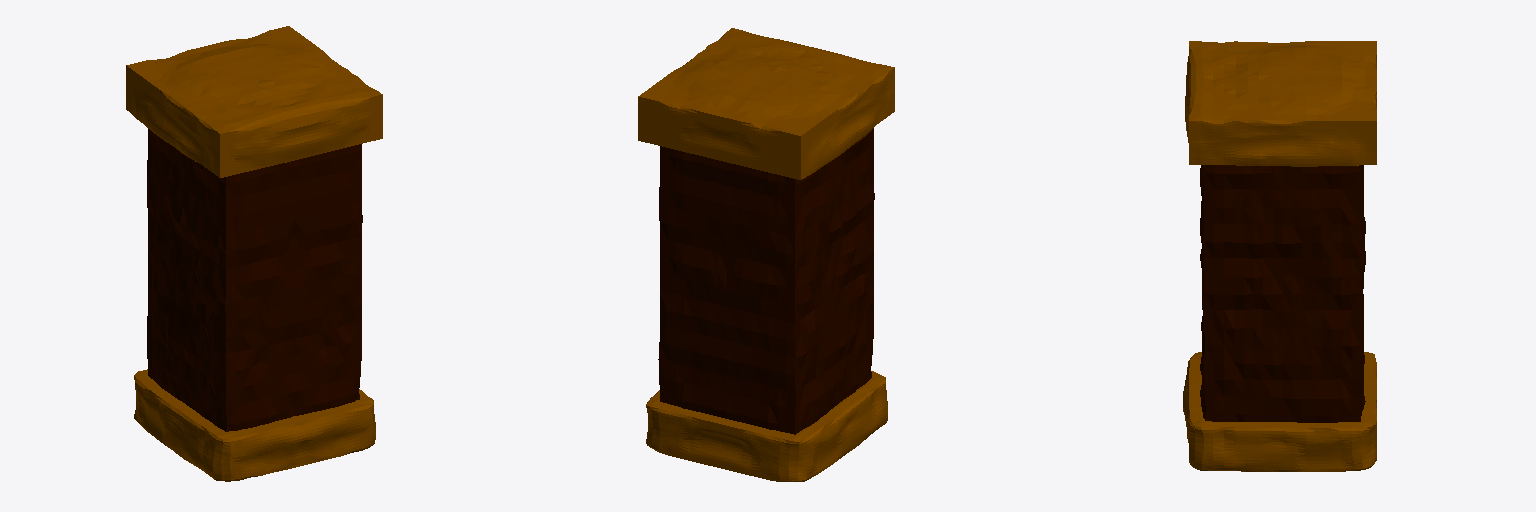
Rendered from Pillar.obj.
The picture shows the model from 3 angles: view 1: azimuth 30°, elevation 25°; view 2: azimuth 150°, elevation 25°; view 3: azimuth 270°, elevation 25°; orthographic projection.
Parts seen in each view (by area): view 1: Pillar_Cube_Material, Pillar_Top_Cube.001_Pillar_Top_Pillar_Top_Texture.png, Pillar_Bottom_Cube.002_Pillar_Top; view 2: Pillar_Cube_Material, Pillar_Top_Cube.001_Pillar_Top_Pillar_Top_Texture.png, Pillar_Bottom_Cube.002_Pillar_Top; view 3: Pillar_Cube_Material, Pillar_Top_Cube.001_Pillar_Top_Pillar_Top_Texture.png, Pillar_Bottom_Cube.002_Pillar_Top.
Boxes of the visible parts, <box> form: Pillar_Cube_Material: <box>147,129,362,431</box>; Pillar_Top_Cube.001_Pillar_Top_Pillar_Top_Texture.png: <box>126,26,382,177</box>; Pillar_Bottom_Cube.002_Pillar_Top: <box>134,369,375,481</box>; Pillar_Cube_Material: <box>658,128,874,434</box>; Pillar_Top_Cube.001_Pillar_Top_Pillar_Top_Texture.png: <box>638,28,894,179</box>; Pillar_Bottom_Cube.002_Pillar_Top: <box>646,371,887,481</box>; Pillar_Cube_Material: <box>1200,165,1365,422</box>; Pillar_Top_Cube.001_Pillar_Top_Pillar_Top_Texture.png: <box>1185,41,1376,166</box>; Pillar_Bottom_Cube.002_Pillar_Top: <box>1183,352,1376,471</box>.
Size of the model in its own units: 2.52 by 5.11 by 2.49.